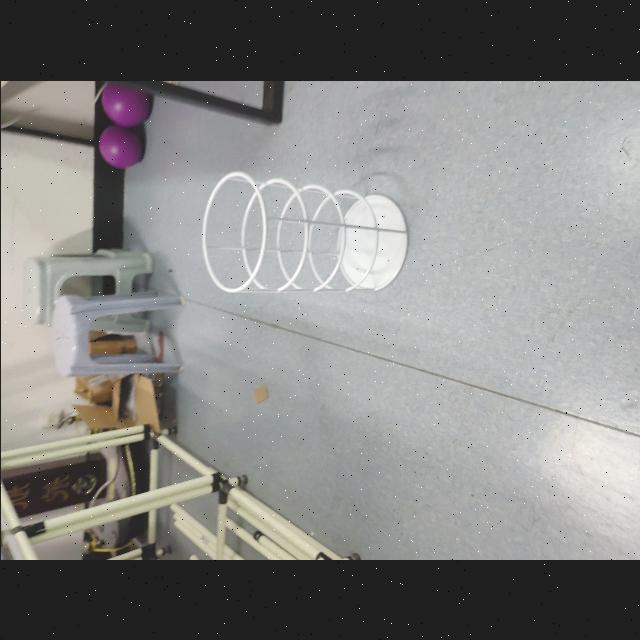S: (196, 167, 414, 301)
